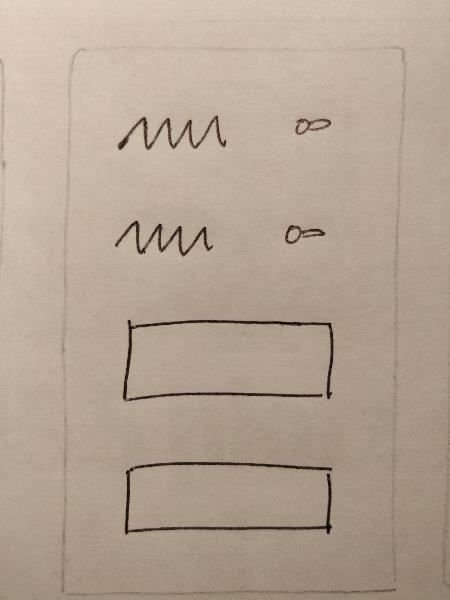switch: (268, 214, 352, 253), (284, 106, 349, 145)
text: (104, 103, 241, 162), (108, 209, 224, 268)
text_input: (114, 305, 348, 413), (110, 455, 346, 548)
